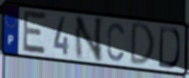4: (53, 16, 70, 56)
C: (106, 21, 126, 63)
D: (129, 21, 156, 67), (157, 25, 182, 70)
E: (21, 9, 48, 56)
N: (73, 16, 105, 64)
